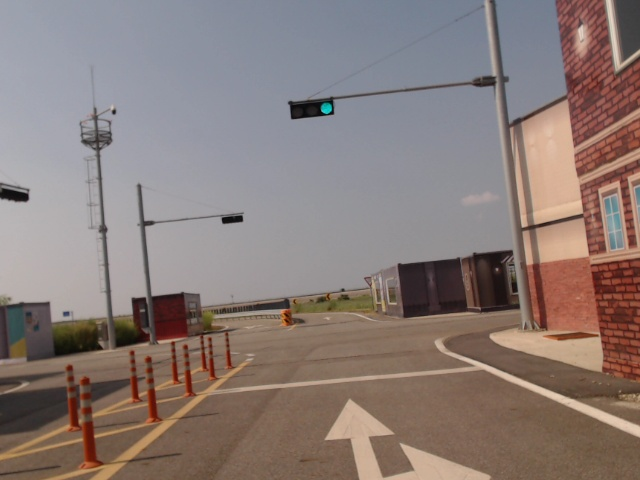green_3: (291, 100, 335, 121)
